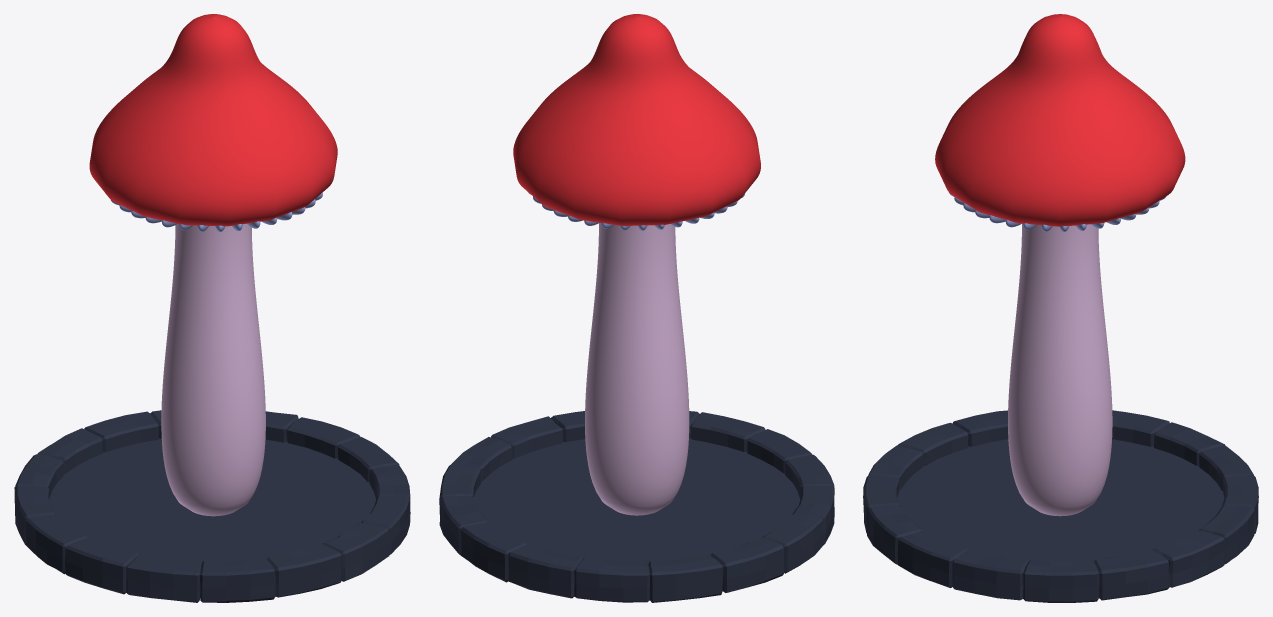
File: VisualModel.fbx
3 views of the same model, side by side, from view 1: azimuth 30°, elevation 25°; view 2: azimuth 150°, elevation 25°; view 3: azimuth 270°, elevation 25° (orthographic).
Parts seen in each view (by area): view 1: NurbsPath, Curb, NurbsPath.001, CirclePlane, Cube; view 2: NurbsPath, Curb, NurbsPath.001, CirclePlane, Cube; view 3: NurbsPath, Curb, NurbsPath.001, CirclePlane, Cube.
Part boxes in pixels (<box>): NurbsPath: <box>89,14,337,226</box>; Curb: <box>14,410,410,602</box>; NurbsPath.001: <box>161,223,265,516</box>; CirclePlane: <box>49,438,376,562</box>; Cube: <box>105,192,322,231</box>; NurbsPath: <box>513,14,760,225</box>; Curb: <box>439,411,834,602</box>; NurbsPath.001: <box>585,223,689,515</box>; CirclePlane: <box>473,438,800,564</box>; Cube: <box>527,191,744,230</box>; NurbsPath: <box>935,14,1185,226</box>; Curb: <box>863,410,1258,602</box>; NurbsPath.001: <box>1008,223,1112,516</box>; CirclePlane: <box>897,439,1224,562</box>; Cube: <box>948,192,1166,231</box>.
Size of the model in its own units: 385 by 541 by 385.
